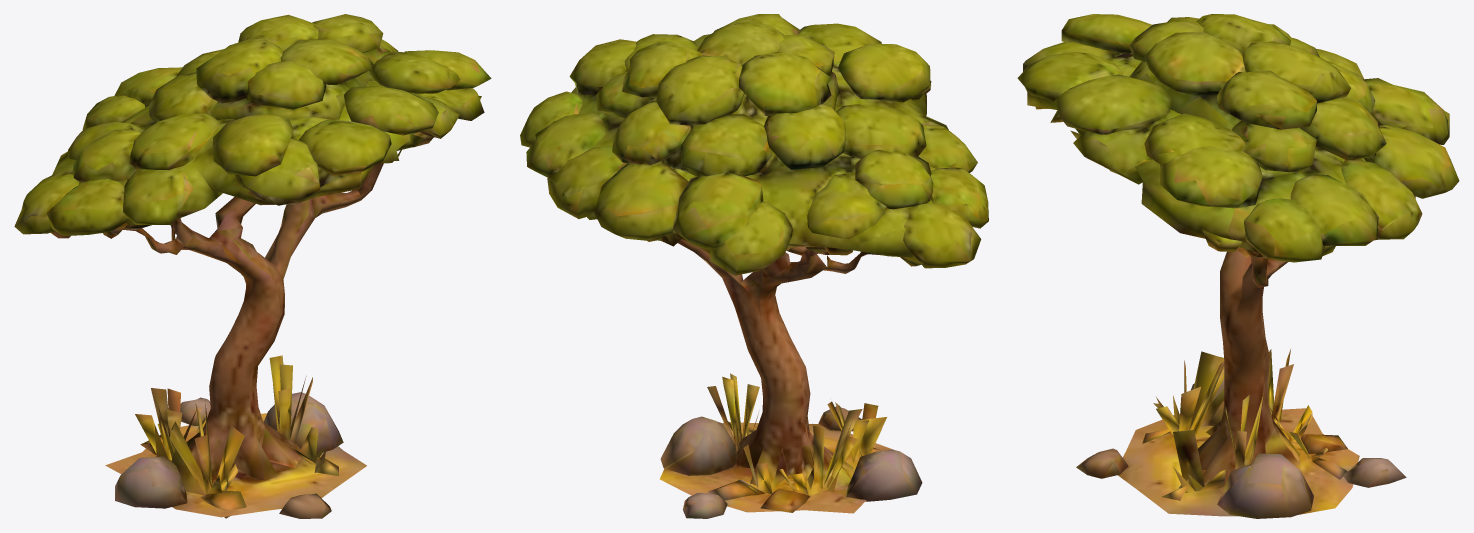
The model's file is tree_01.glb.
3 renders of one model, left to right at view 1: azimuth 30°, elevation 25°; view 2: azimuth 150°, elevation 25°; view 3: azimuth 270°, elevation 25°, orthographic. The views are drawn at different scales.
Visible parts, largest first — view 1: tree_01; view 2: tree_01; view 3: tree_01.
Boxes of the visible parts, <box> form: tree_01: <box>14,14,491,518</box>; tree_01: <box>520,14,988,518</box>; tree_01: <box>1017,14,1459,518</box>.
Size of the model in its own units: 8.41 by 7.5 by 6.55.
Materials: 1 (1 with a texture image).
